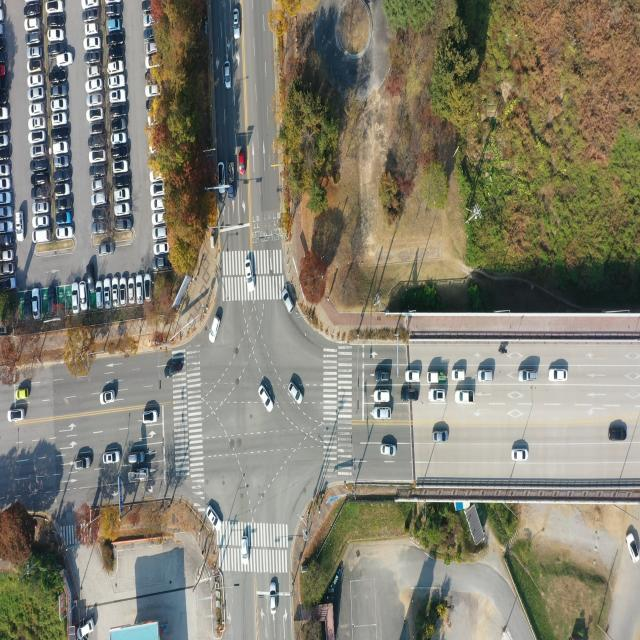car: (76, 618, 94, 640), (628, 533, 640, 565), (85, 262, 95, 298), (261, 385, 274, 412), (287, 384, 302, 406), (208, 508, 222, 531), (46, 41, 66, 57), (166, 361, 185, 377), (210, 317, 221, 343), (282, 288, 293, 313), (52, 126, 69, 142), (14, 212, 23, 241), (32, 231, 50, 245), (51, 70, 69, 84), (246, 262, 254, 292), (108, 45, 125, 59), (45, 1, 63, 14), (550, 368, 568, 381), (56, 228, 74, 241), (520, 371, 538, 384), (608, 429, 626, 442), (456, 391, 474, 404), (32, 289, 40, 318), (48, 286, 56, 315), (25, 290, 33, 319), (217, 164, 225, 193), (58, 54, 74, 68), (53, 86, 69, 100), (88, 78, 104, 92), (91, 149, 107, 163), (110, 91, 126, 105), (71, 284, 79, 312), (89, 108, 105, 122), (111, 118, 127, 132), (0, 277, 16, 291), (271, 582, 278, 614), (223, 62, 231, 90), (155, 258, 171, 272), (112, 146, 128, 160), (374, 409, 391, 422), (478, 371, 495, 384), (111, 105, 128, 118), (234, 8, 241, 39), (401, 390, 419, 402), (429, 390, 445, 403), (112, 162, 128, 175), (53, 113, 69, 126), (54, 142, 70, 155), (109, 75, 125, 88), (114, 204, 130, 217), (376, 372, 392, 385), (108, 62, 124, 75), (56, 213, 72, 226), (32, 187, 48, 200), (56, 170, 72, 183), (128, 278, 136, 304), (7, 411, 24, 423), (47, 30, 64, 42), (136, 276, 143, 304), (145, 274, 152, 302), (14, 388, 29, 401), (111, 133, 126, 146), (114, 188, 129, 201), (57, 184, 72, 197), (26, 4, 41, 17), (375, 391, 391, 403), (432, 431, 448, 443), (53, 100, 69, 112), (29, 90, 45, 102), (30, 132, 46, 144), (512, 450, 528, 462), (114, 219, 130, 231), (142, 412, 158, 424), (86, 37, 102, 49), (32, 162, 48, 174), (128, 452, 144, 464), (57, 200, 73, 212), (74, 458, 90, 470), (84, 8, 100, 20), (50, 15, 66, 27), (104, 280, 111, 307), (242, 538, 249, 565), (113, 177, 130, 188), (102, 391, 116, 404), (93, 195, 107, 208), (26, 19, 40, 32), (100, 244, 114, 257), (28, 61, 42, 74), (145, 86, 159, 99), (119, 279, 126, 305), (112, 280, 119, 306), (90, 136, 104, 149), (239, 151, 246, 177), (34, 216, 49, 228), (107, 20, 122, 32), (30, 104, 45, 116), (30, 117, 45, 129), (87, 54, 102, 66), (106, 4, 121, 16), (89, 95, 104, 107), (26, 34, 41, 46), (92, 166, 107, 178), (109, 33, 124, 45), (104, 453, 120, 464), (32, 175, 48, 186), (156, 243, 169, 256), (93, 222, 106, 235), (0, 250, 14, 262), (150, 184, 164, 196), (28, 46, 42, 58), (86, 24, 100, 36), (90, 124, 104, 136), (380, 443, 394, 455), (31, 146, 46, 157), (80, 283, 86, 310), (151, 200, 164, 212), (153, 230, 166, 242), (98, 280, 104, 306), (0, 192, 12, 205), (0, 221, 13, 233), (29, 75, 43, 86), (34, 204, 48, 215), (407, 372, 421, 383), (452, 369, 466, 380), (56, 158, 70, 169), (93, 210, 108, 220), (0, 208, 12, 220), (151, 214, 164, 225), (89, 67, 102, 78), (149, 171, 162, 182), (1, 266, 15, 276), (84, 0, 99, 9), (0, 178, 11, 190), (93, 180, 104, 192), (146, 42, 157, 54), (0, 147, 10, 160), (0, 165, 10, 177), (143, 14, 153, 26), (142, 0, 152, 12), (105, 0, 122, 7), (0, 108, 9, 121), (0, 135, 9, 148), (0, 122, 9, 135), (145, 28, 154, 41), (0, 50, 8, 64), (0, 92, 7, 107), (0, 77, 6, 91), (145, 70, 152, 82), (0, 65, 6, 77), (0, 7, 4, 23), (0, 35, 4, 49), (0, 22, 4, 35)
small_truck: (427, 372, 449, 384), (130, 468, 150, 481), (227, 167, 234, 202), (0, 234, 13, 246)
